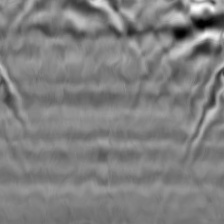Utility: (137, 0, 224, 95), (7, 0, 132, 65)
